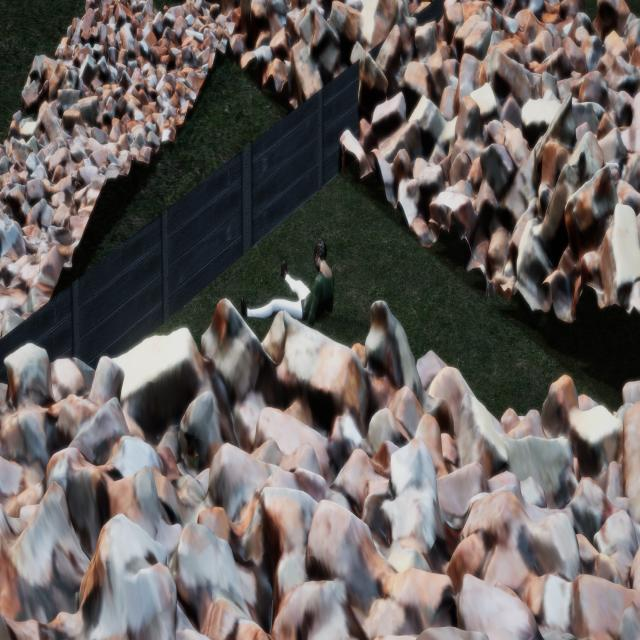Human: (242, 243, 346, 357)
